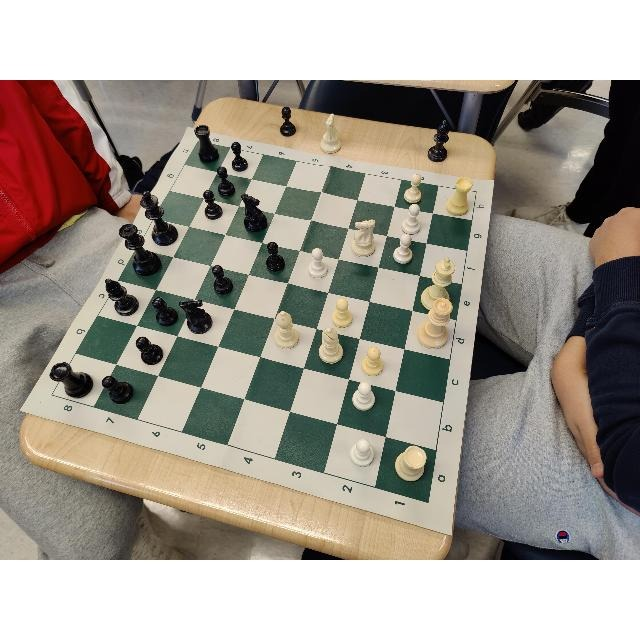black-bishop: (105, 277, 139, 316)
black-king: (139, 191, 178, 245)
black-knight: (179, 298, 213, 333), (242, 192, 268, 231)
black-pawn: (102, 376, 133, 404), (136, 336, 164, 366), (152, 297, 177, 327), (211, 265, 233, 295), (203, 189, 223, 219), (217, 166, 235, 198), (266, 242, 285, 272), (231, 141, 248, 171)
black-queen: (119, 223, 161, 277)
black-rook: (49, 362, 93, 398), (194, 125, 219, 163)
white-bishop: (273, 310, 299, 350), (319, 329, 343, 363)
white-king: (421, 257, 455, 310)
white-knight: (350, 218, 376, 257)
white-pawn: (361, 346, 384, 377), (352, 382, 375, 410), (308, 247, 328, 279), (392, 234, 413, 264), (351, 440, 375, 466), (401, 203, 420, 234), (404, 175, 422, 203)
white-queen: (417, 299, 453, 349)
white-rook: (395, 445, 427, 481), (446, 177, 472, 217)
